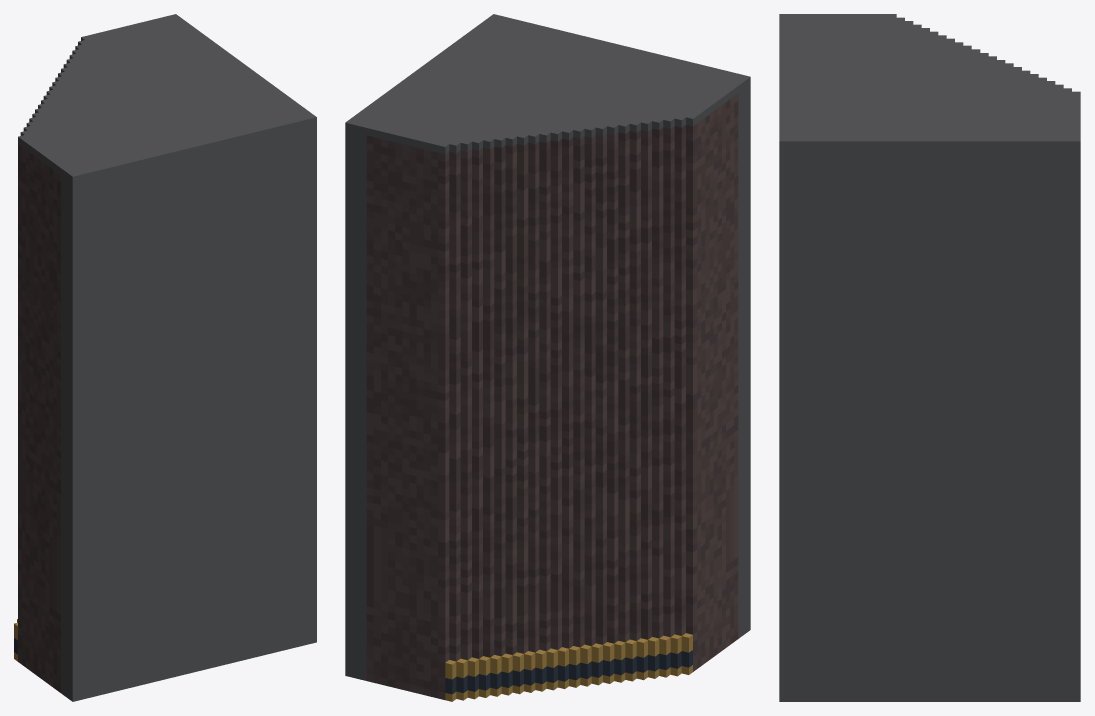
The model's file is Pillar.fbx.
3 renders of one model, left to right at view 1: azimuth 30°, elevation 25°; view 2: azimuth 150°, elevation 25°; view 3: azimuth 270°, elevation 25°, orthographic. The views are drawn at different scales.
Visible parts, largest first — view 1: 동아리\Stage1-010; view 2: 동아리\Stage1-010; view 3: 동아리\Stage1-010.
Part boxes in pixels (box(x1,y1,x2,y2)): 동아리\Stage1-010: box(14, 14, 316, 701); 동아리\Stage1-010: box(345, 14, 750, 701); 동아리\Stage1-010: box(779, 14, 1080, 701).
Size of the model in its own units: 24.91 by 51.21 by 24.91.
